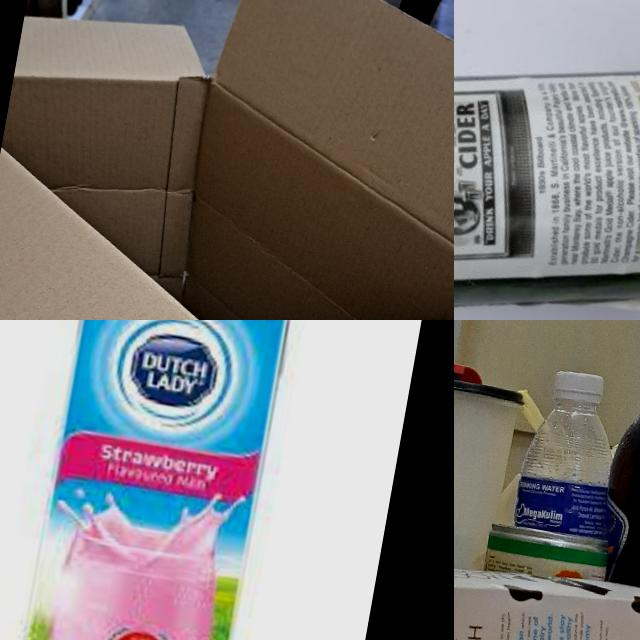caixinha: (10, 320, 296, 640), (454, 530, 640, 640)
garrafa de vidro: (454, 0, 640, 320), (593, 320, 640, 602)
garrafa plástica: (504, 390, 634, 568)
lata: (481, 521, 611, 589)
papelão: (0, 0, 454, 320)
tampa plástica: (554, 368, 606, 406)
